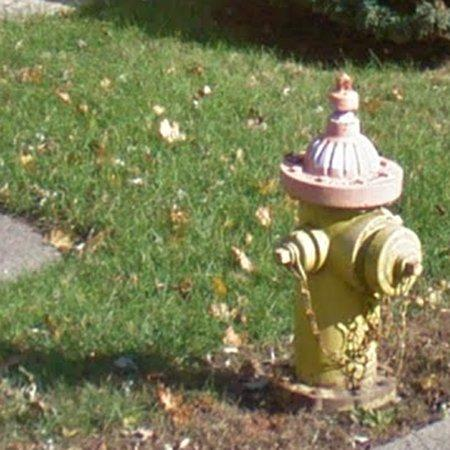a fire hydrant: (276, 74, 424, 390)
